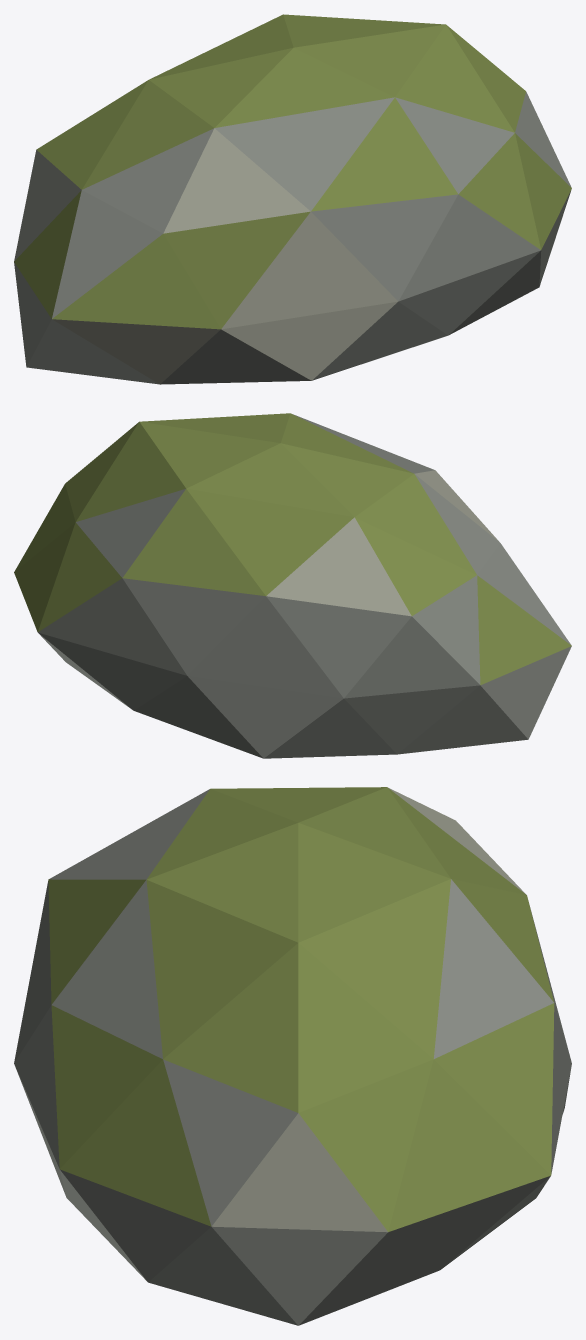
The model's file is SM_MossRock_04.fbx.
3 renders of one model, top to bottom at view 1: azimuth 30°, elevation 25°; view 2: azimuth 150°, elevation 25°; view 3: azimuth 270°, elevation 25°, orthographic. The views are drawn at different scales.
Visible parts, largest first — view 1: SM_MossRock_04; view 2: SM_MossRock_04; view 3: SM_MossRock_04.
Part boxes in pixels (x1,y1,x2,y2): SM_MossRock_04: [14, 14, 571, 384]; SM_MossRock_04: [14, 413, 571, 758]; SM_MossRock_04: [14, 787, 571, 1325].
Bounding box in the file's own units: 3.22 × 2.15 × 1.49.
